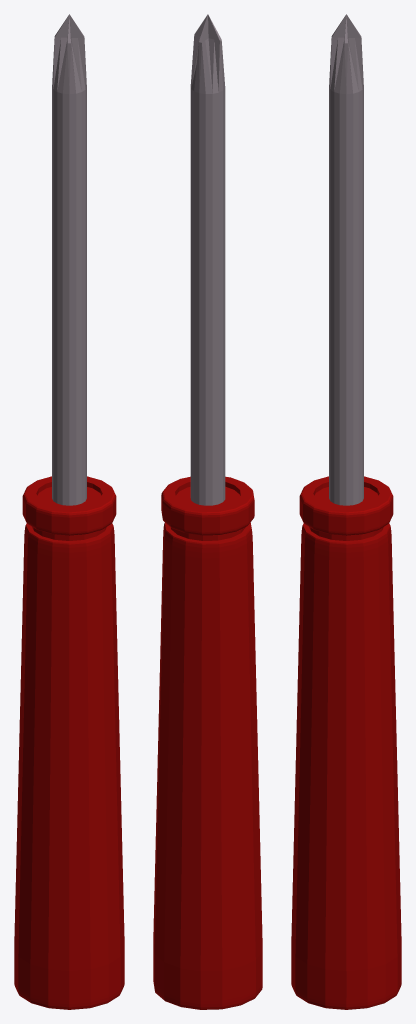
Rendered from ScrewDriverPlus.fbx.
The picture shows the model from 3 angles, left to right: view 1: azimuth 90°, elevation 25°; view 2: azimuth 150°, elevation 25°; view 3: azimuth 270°, elevation 25°; orthographic projection.
Parts seen in each view (by area): view 1: ScrewDriverPlus; view 2: ScrewDriverPlus; view 3: ScrewDriverPlus.
Part boxes in pixels (x1=…): ScrewDriverPlus: x1=14, y1=14, x2=124, y2=1009; ScrewDriverPlus: x1=153, y1=14, x2=262, y2=1009; ScrewDriverPlus: x1=291, y1=14, x2=401, y2=1009.
Size of the model in its own units: 520 by 5054 by 520.
